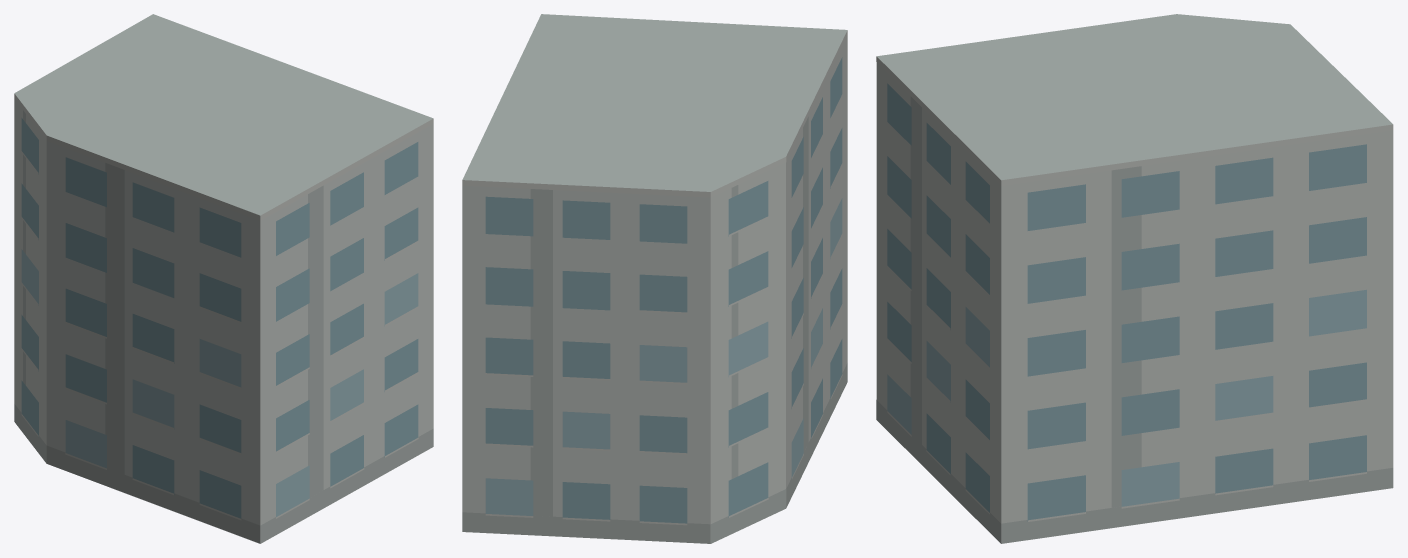
The model's file is survey-upis-32774444.glb.
3 views of the same model, side by side, from view 1: azimuth 30°, elevation 25°; view 2: azimuth 150°, elevation 25°; view 3: azimuth 270°, elevation 25° (orthographic). The views are drawn at different scales.
Visible parts, largest first — view 1: survey-upis-32774444.tmp; view 2: survey-upis-32774444.tmp; view 3: survey-upis-32774444.tmp.
Boxes of the visible parts, bbox=[...] form: survey-upis-32774444.tmp: bbox=[14, 14, 433, 543]; survey-upis-32774444.tmp: bbox=[462, 14, 847, 543]; survey-upis-32774444.tmp: bbox=[876, 14, 1393, 543].
Size of the model in its own units: 14.97 by 15.25 by 19.66.
